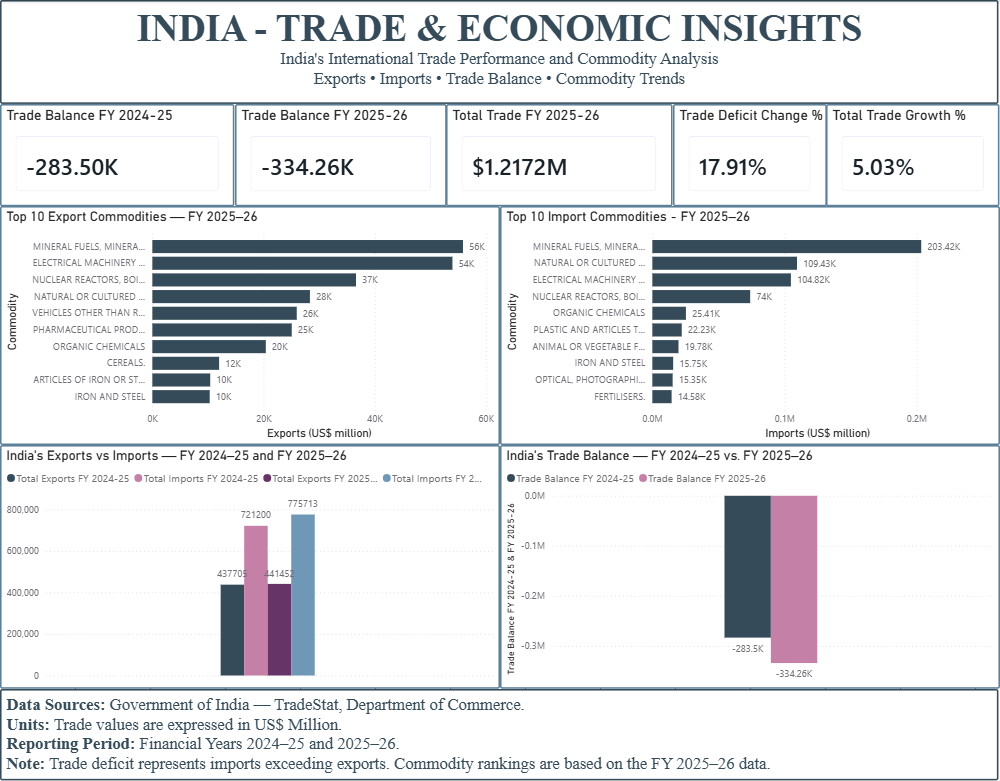

The dashboard page shown, as its layout file describes it:
{"tool":"powerbi","page":{"name":"Trade & Economic Insights","canvas":[1280,1000],"ordinal":2},"visuals":[{"type":"clusteredBarChart","title":"Top 10 Export Commodities — FY 2025–26","fields":{"Y":["Sum(Fact_Export.2025-2026)"],"Category":["Fact_Export.Commodity"]},"box":[0,263.6,640,306.3],"z":0},{"type":"clusteredBarChart","title":"Top 10 Import Commodities - FY 2025–26","fields":{"Category":["Fact_Import.Commodity"],"Y":["Sum(Fact_Import.2025-2026)"]},"box":[640,263.6,640,306.3],"z":1000},{"type":"cardVisual","title":"Trade Balance FY  2025-26","fields":{"Data":["Exports_Total.Trade Balance FY 2025-26"]},"box":[300.2,132.6,271.2,131],"z":2000},{"type":"cardVisual","title":"Trade Balance FY 2024-25","fields":{"Data":["Exports_Total.Trade Balance FY 2024-25"]},"box":[0,132.6,300.2,131],"z":3000},{"type":"cardVisual","title":"Trade Deficit Change %","fields":{"Data":["Exports_Total.Trade Deficit Change %"]},"box":[861,132.6,196.6,131],"z":4000},{"type":"cardVisual","title":"Total Trade FY 2025-26","fields":{"Data":["Exports_Total.Total Trade FY 2025-26"]},"box":[571.4,132.6,289.5,131],"z":5000},{"type":"cardVisual","title":"Total Trade Growth %","fields":{"Data":["Exports_Total.Total Trade Growth %"]},"box":[1057.5,132.6,222.5,131],"z":6000},{"type":"clusteredColumnChart","title":"India''s Exports vs Imports — FY 2024–25 and FY 2025–26","fields":{"Y":["Exports_Total.Total Exports FY 2024-25","Imports_Total.Total Imports FY 2024-25","Exports_Total.Total Exports FY 2025-26","Imports_Total.Total Imports FY 2025-26"]},"box":[0,569.9,640,312.4],"z":7000},{"type":"clusteredColumnChart","title":"India''s Trade Balance — FY 2024–25 vs. FY 2025–26","fields":{"Y":["Exports_Total.Trade Balance FY 2024-25","Exports_Total.Trade Balance FY 2025-26"]},"box":[640,569.9,640,312.4],"z":8000},{"type":"textbox","box":[0,882.3,1278.5,117.3],"z":9000},{"type":"textbox","box":[0,0,1278.5,132.6],"z":10000}]}

Visuals, with their boxes in screenshot pixels (x1, y1, x2, y2), scaled from the page's 1280x1000 canvas onto the 1000x781 screenshot:
"Top 10 Export Commodities — FY 2025–26" clusteredBarChart: [0,206,500,445]
"Top 10 Import Commodities - FY 2025–26" clusteredBarChart: [500,206,999,445]
"Trade Balance FY  2025-26" cardVisual: [235,104,446,206]
"Trade Balance FY 2024-25" cardVisual: [0,104,235,206]
"Trade Deficit Change %" cardVisual: [673,104,826,206]
"Total Trade FY 2025-26" cardVisual: [446,104,673,206]
"Total Trade Growth %" cardVisual: [826,104,999,206]
"India''s Exports vs Imports — FY 2024–25 and FY 2025–26" clusteredColumnChart: [0,445,500,689]
"India''s Trade Balance — FY 2024–25 vs. FY 2025–26" clusteredColumnChart: [500,445,999,689]
textbox: [0,689,999,780]
textbox: [0,0,999,104]
